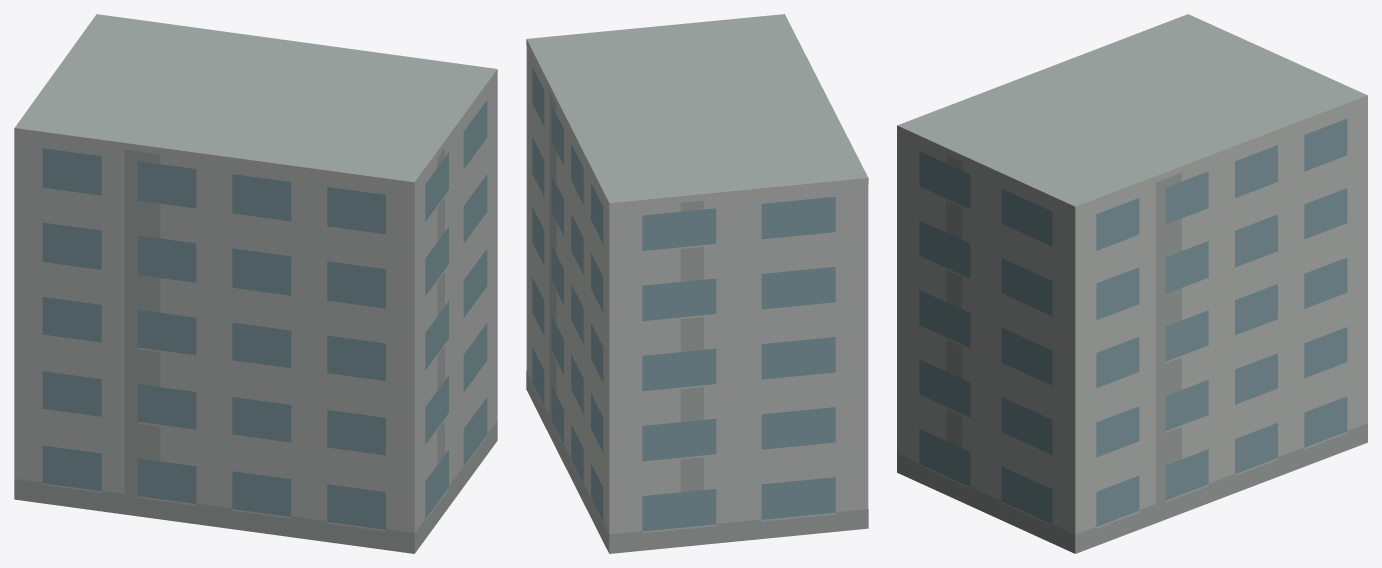
The model's file is survey-upis-32849457.glb.
3 views of the same model, side by side, from view 1: azimuth 30°, elevation 25°; view 2: azimuth 150°, elevation 25°; view 3: azimuth 270°, elevation 25° (orthographic). The views are drawn at different scales.
Parts seen in each view (by area): view 1: survey-upis-32849457.tmp; view 2: survey-upis-32849457.tmp; view 3: survey-upis-32849457.tmp.
Part boxes in pixels (x1,y1,x2,y2): survey-upis-32849457.tmp: (14, 14, 497, 553); survey-upis-32849457.tmp: (526, 14, 868, 553); survey-upis-32849457.tmp: (897, 14, 1367, 553).
Bounding box in the file's own units: 15.72 × 13.2 × 16.23.
